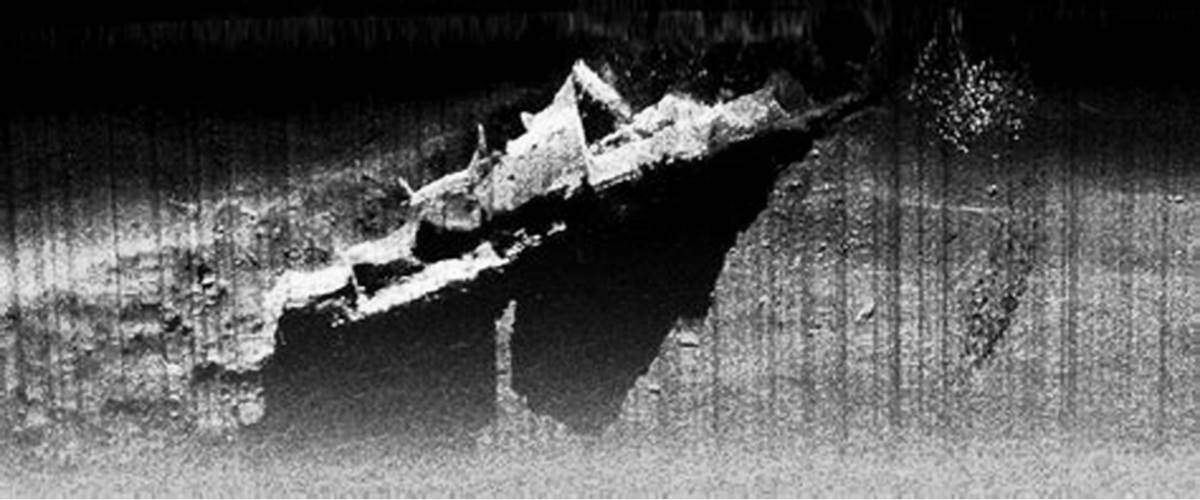ship: (254, 65, 785, 345)
